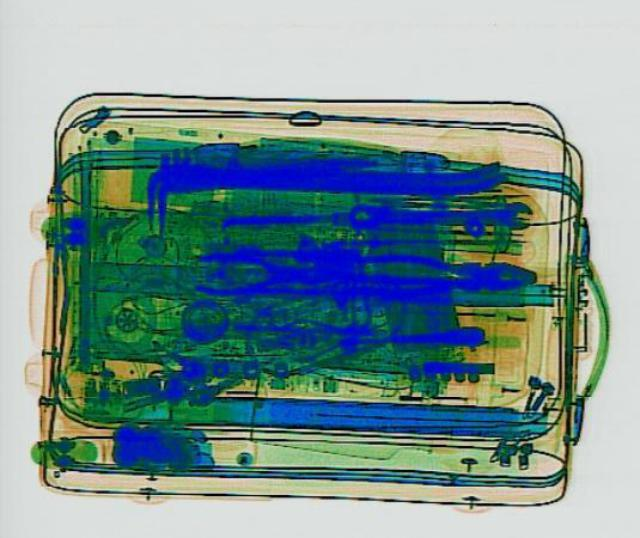Pliers: (337, 249, 536, 295), (190, 248, 330, 294)
Wrench: (347, 198, 531, 225)
